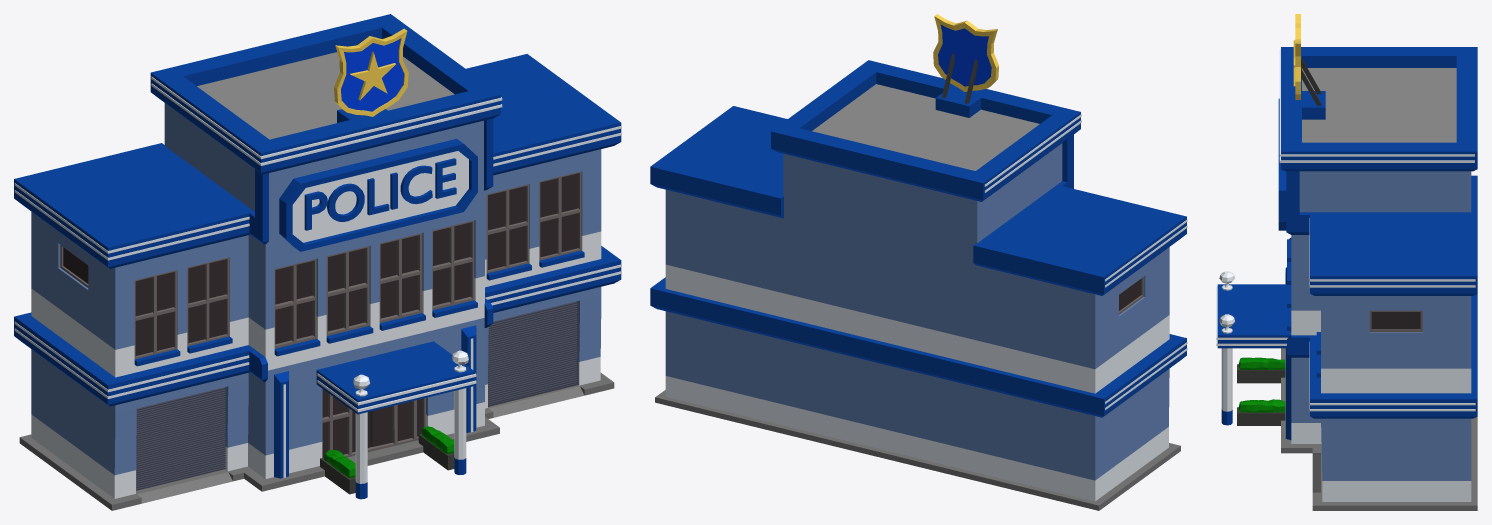
Rendered from police_hq_night.glb.
3 renders of one model, left to right at view 1: azimuth 30°, elevation 25°; view 2: azimuth 150°, elevation 25°; view 3: azimuth 270°, elevation 25°, orthographic. The views are drawn at different scales.
Visible parts, largest first — view 1: PublicBuilding_Police; view 2: PublicBuilding_Police; view 3: PublicBuilding_Police.
Boxes of the visible parts, bbox=[...] form: PublicBuilding_Police: bbox=[14, 14, 621, 510]; PublicBuilding_Police: bbox=[650, 14, 1187, 510]; PublicBuilding_Police: bbox=[1216, 14, 1477, 510].
Bounding box in the file's own units: 1.85 × 1.44 × 0.9138.
Materials: 1 (1 with a texture image).
